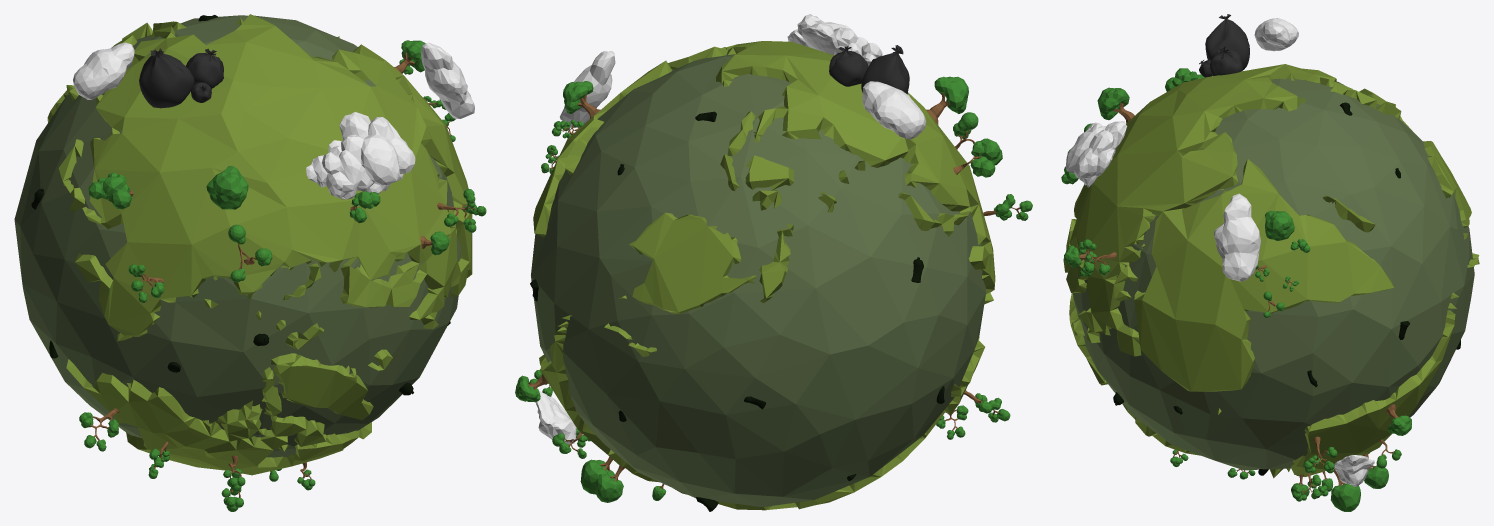
Rendered from STA.fbx.
3 views of the same model, side by side, from view 1: azimuth 30°, elevation 25°; view 2: azimuth 150°, elevation 25°; view 3: azimuth 270°, elevation 25° (orthographic). The views are drawn at different scales.
Visible parts, largest first — view 1: green_good.003; view 2: green_good.003; view 3: green_good.003.
Boxes of the visible parts, left/top/right/bottom form: green_good.003: left=14, top=14, right=486, bottom=511; green_good.003: left=515, top=14, right=1032, bottom=511; green_good.003: left=1061, top=14, right=1479, bottom=511.
Size of the model in its own units: 103 by 110 by 102.
